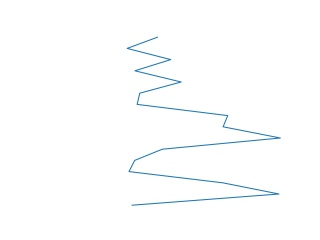majorRiverBedLagDeposit: (123, 36, 283, 208)
